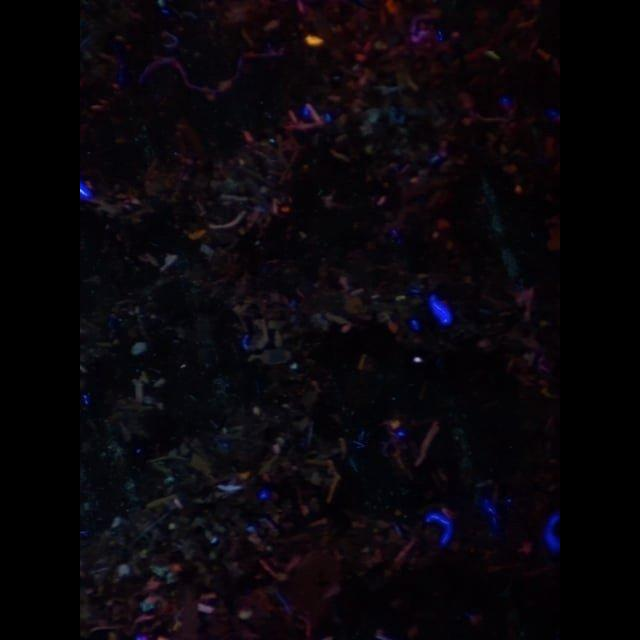Fibre: (132, 341, 148, 353)
